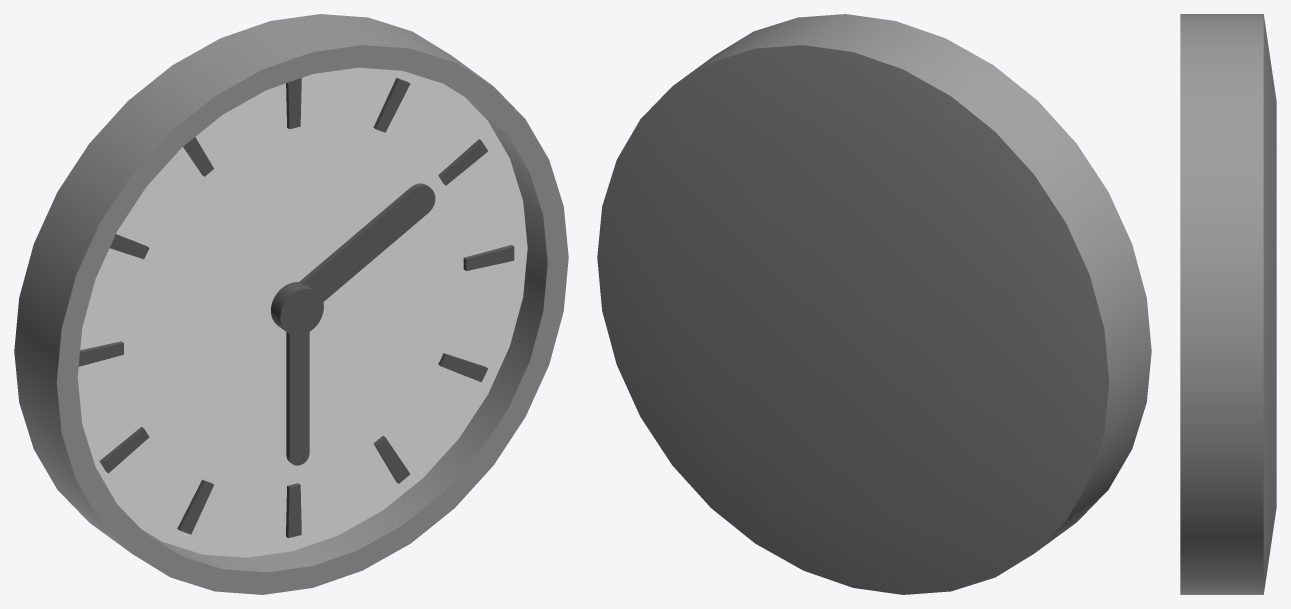
Rendered from two_thirty.glb.
The picture shows the model from 3 angles, left to right: view 1: azimuth 30°, elevation 25°; view 2: azimuth 150°, elevation 25°; view 3: azimuth 270°, elevation 25°; orthographic projection.
Visible parts, largest first — view 1: Circle.2444; view 2: Circle.2444; view 3: Circle.2444.
Boxes of the visible parts, x1=… form: Circle.2444: x1=14, y1=14, x2=568, y2=594; Circle.2444: x1=597, y1=14, x2=1151, y2=594; Circle.2444: x1=1180, y1=14, x2=1276, y2=594.
Size of the model in its own units: 2.33 by 2.33 by 0.387.
1 material, 1 textured.
